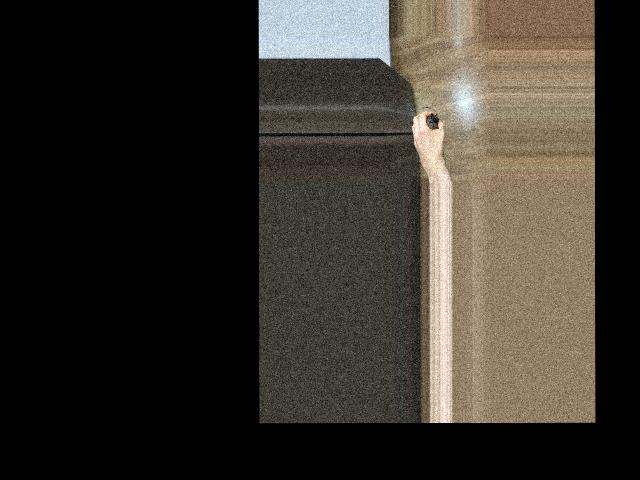beet: (422, 106, 439, 129)
